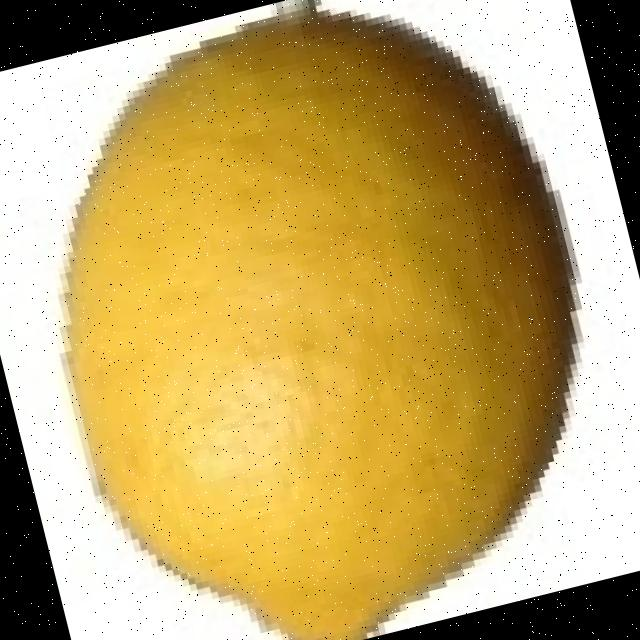lemon: (66, 9, 575, 640)
